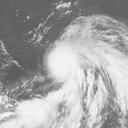cyclone: (44, 36, 92, 84)
